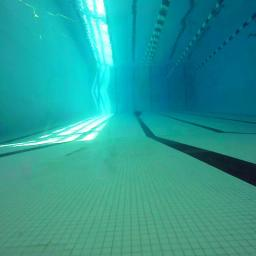Full: (133, 110, 142, 118)
